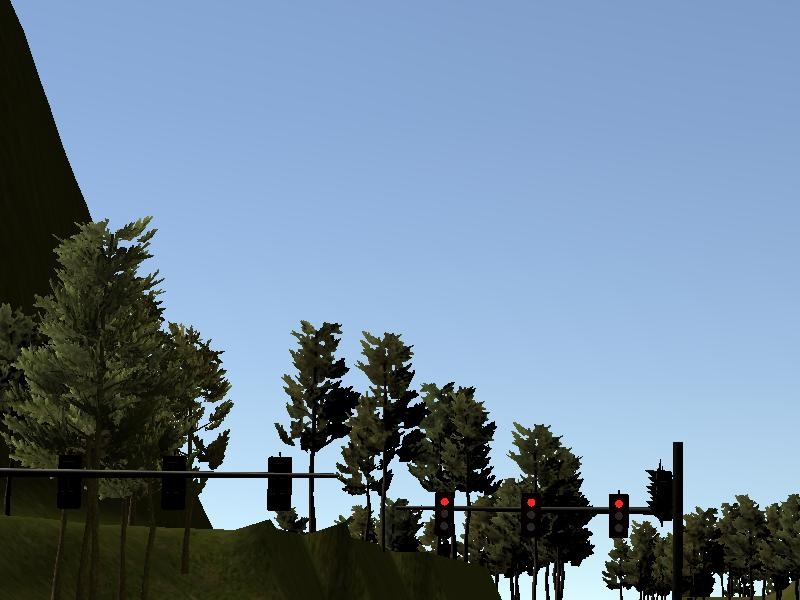traffic_light_red: (410, 492, 653, 541)
